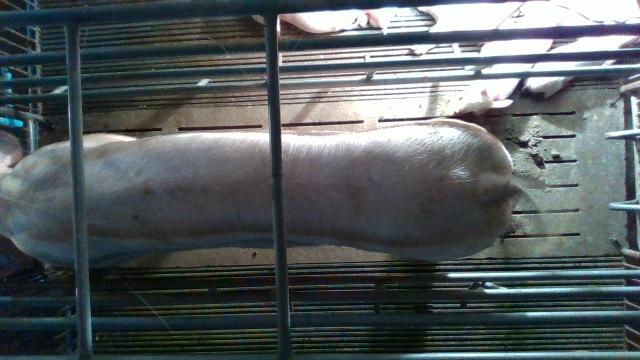piglet: (447, 40, 556, 116), (525, 36, 640, 98), (250, 7, 399, 36)
sow-stand-feed: (2, 119, 539, 263)
